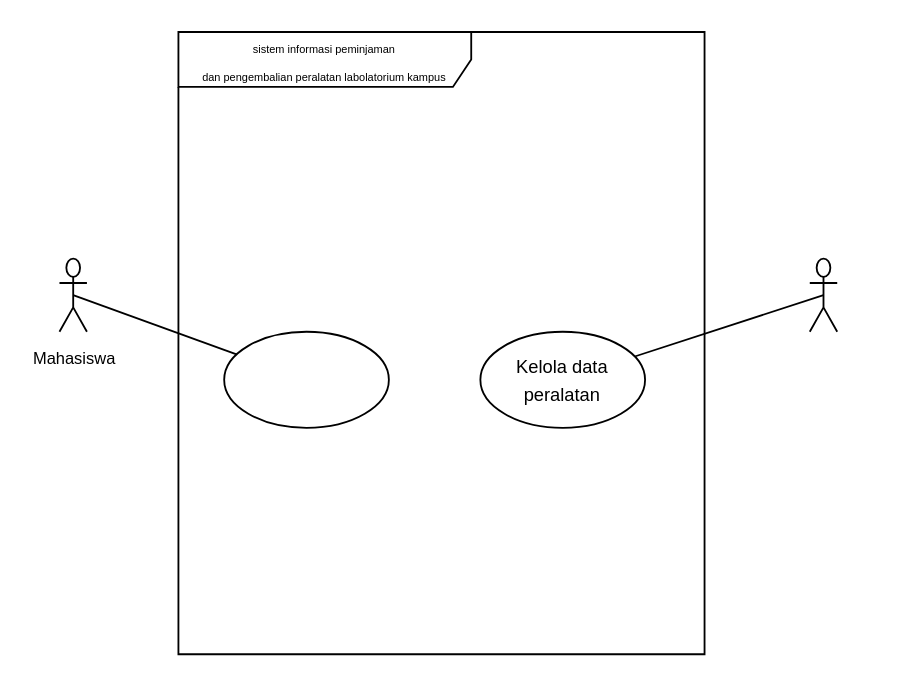
The diagram is 902 pixels wide and 686 high, and some of its shapes have lost their labels. Each missing label, with the box of its shape:
Li hat ketersediaan peralata n: (222, 330, 389, 428)
Petugas Labolatorium: (808, 257, 837, 332)
